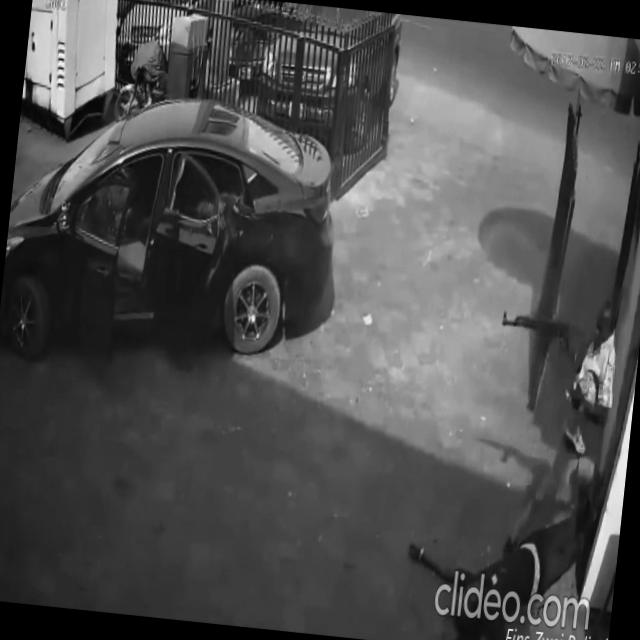gun: (494, 306, 583, 368), (206, 183, 266, 244)
person: (395, 469, 601, 640)
person with a gun: (474, 279, 626, 572), (177, 154, 269, 360)
